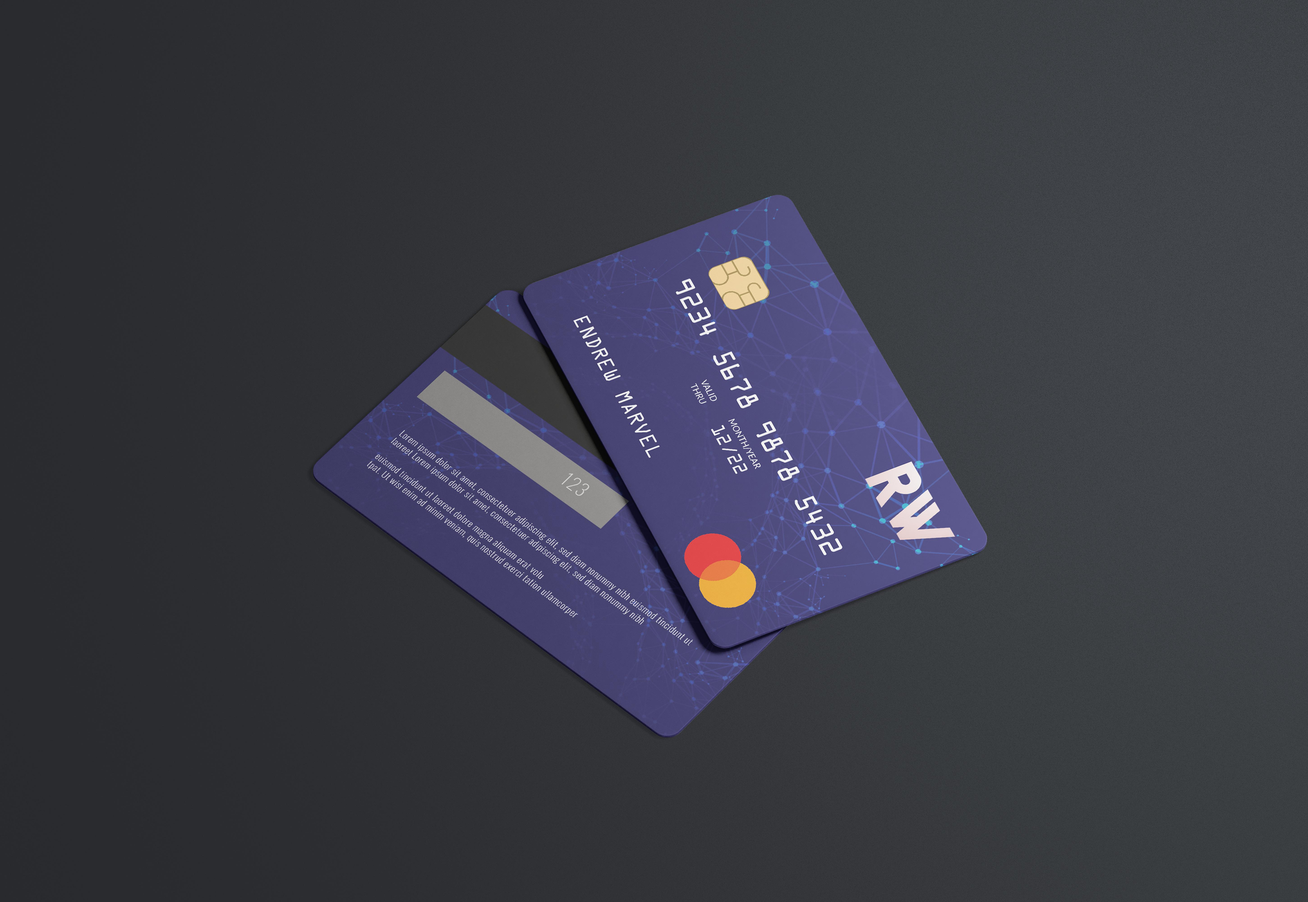Credit_card: (523, 195, 986, 648)
